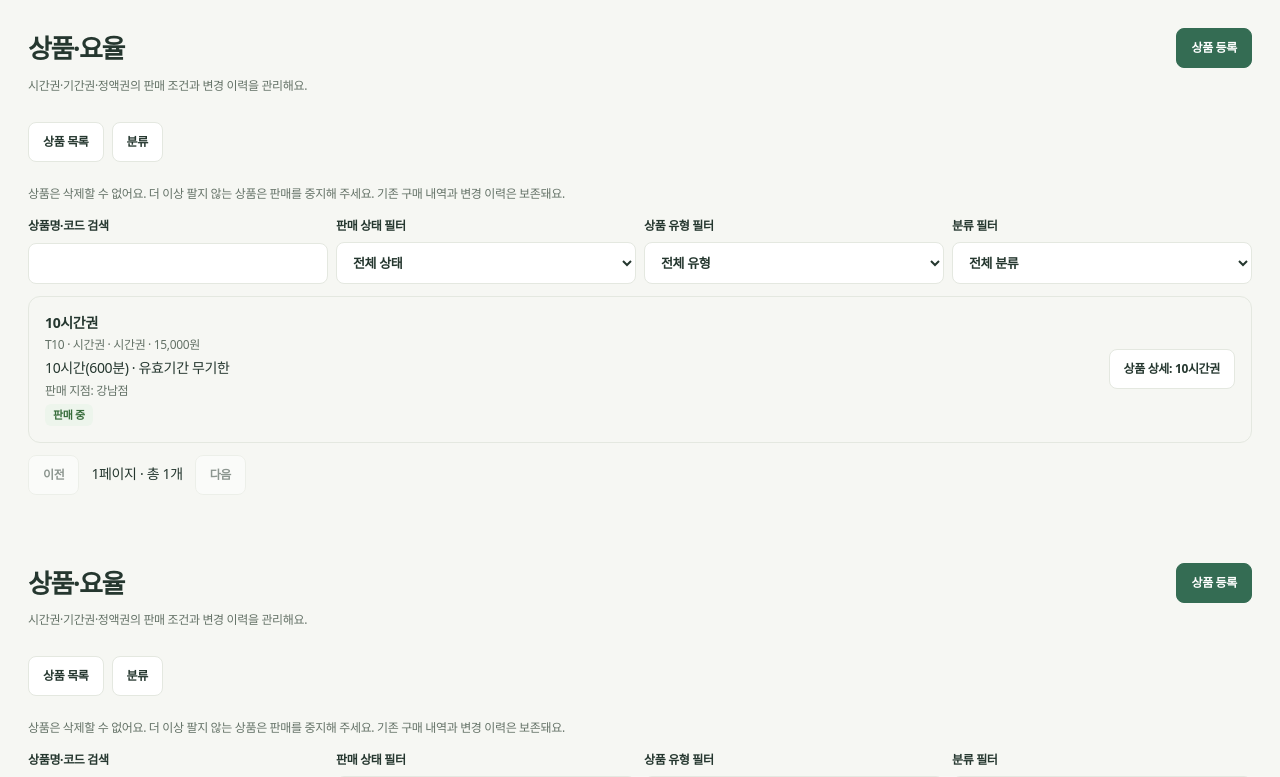
Test: lists terms with explicit units and unlimited validity, and never offers delete
Check: the text "10시간(600분) · 유효기간 무기한" is shown, box [45,357,230,379]
Check: the text "판매 지점: 강남점" is shown, box [45,382,128,399]
What coordinates should you click on to do the following:
click the button "상품 상세: 10시간권"
I would click on:
 (1172, 369)
Its box is [1108,349,1235,389].
(page scrolled)
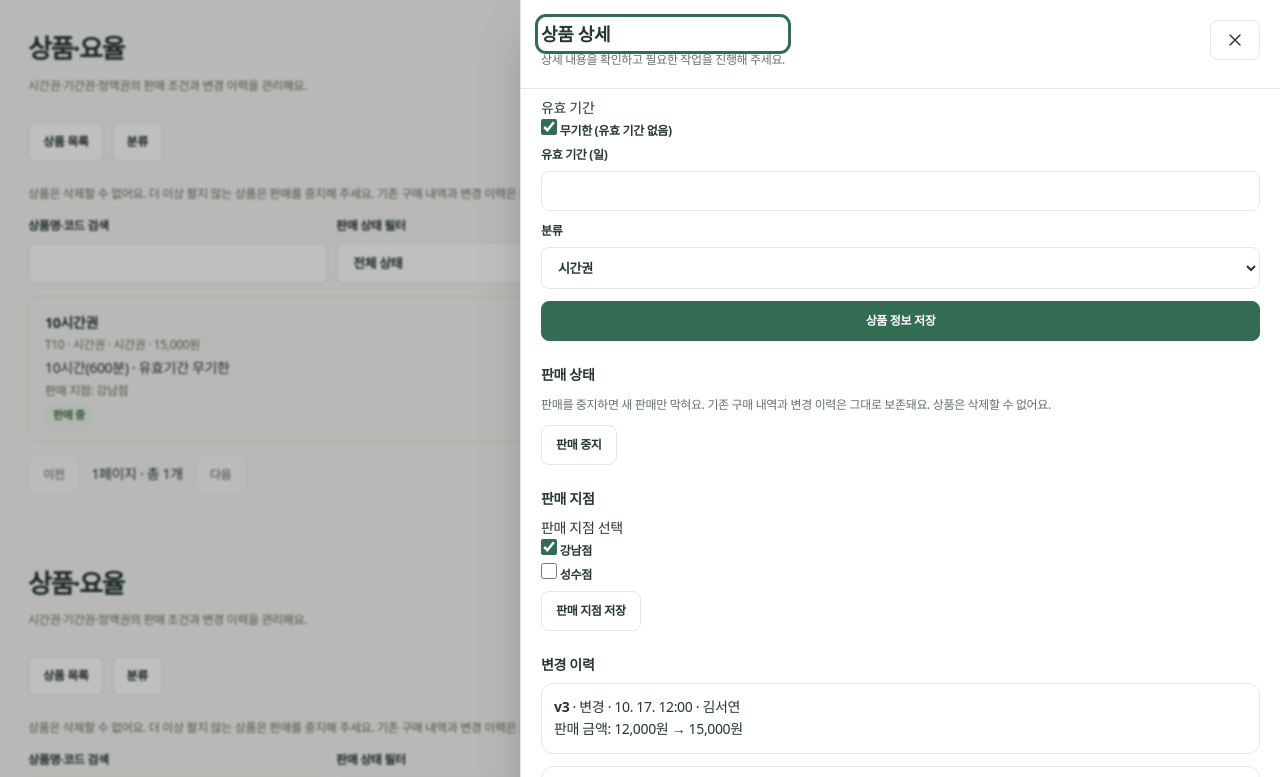
Check: the button "판매 중지" is shown, box [541,425,616,465]
